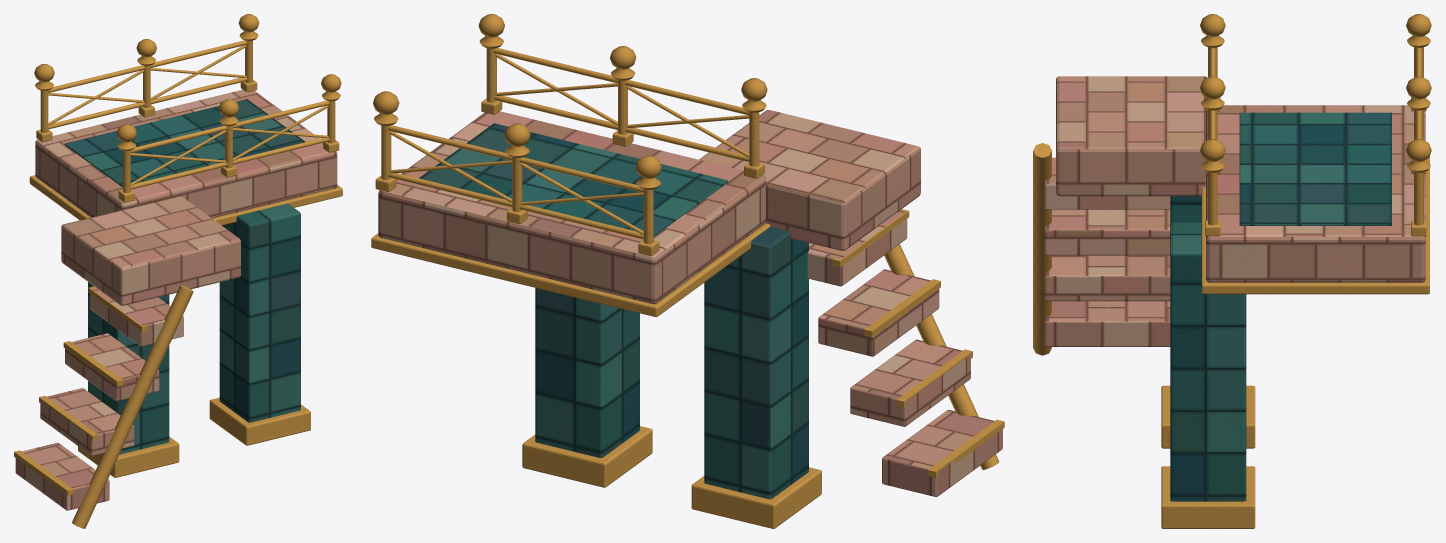
The model's file is act3_sky_corridor.glb.
The picture shows the model from 3 angles, left to right: view 1: azimuth 30°, elevation 25°; view 2: azimuth 150°, elevation 25°; view 3: azimuth 270°, elevation 25°; orthographic projection. The views are drawn at different scales.
Parts seen in each view (by area): view 1: SM_Act3_SkyCorridor_Mesh; view 2: SM_Act3_SkyCorridor_Mesh; view 3: SM_Act3_SkyCorridor_Mesh.
Boxes of the visible parts, left/top/right/bottom form: SM_Act3_SkyCorridor_Mesh: left=14, top=14, right=342, bottom=528; SM_Act3_SkyCorridor_Mesh: left=371, top=14, right=1004, bottom=528; SM_Act3_SkyCorridor_Mesh: left=1033, top=14, right=1431, bottom=528.
Bounding box in the file's own units: 2.2 × 2.04 × 1.78.
3 materials, 3 textured.
